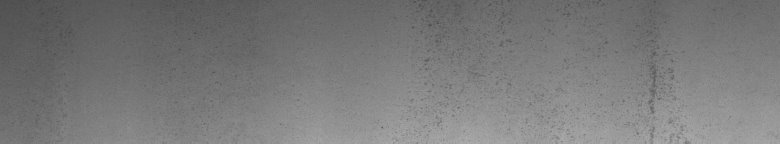ib: (417, 4, 572, 135)
